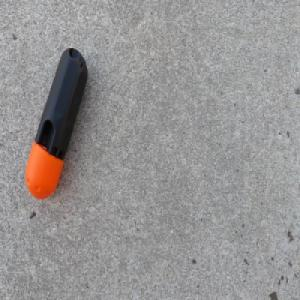PlasticPart: (24, 46, 88, 200)
